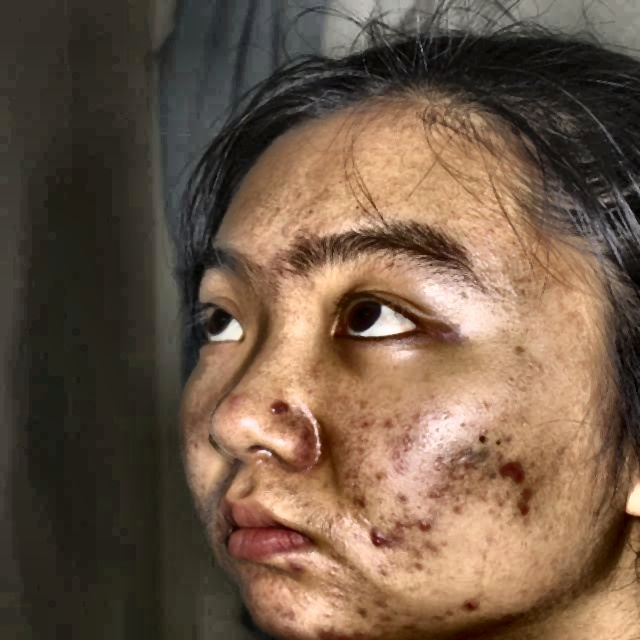pustule: (508, 482, 552, 522), (360, 525, 396, 557), (450, 587, 482, 617), (317, 614, 349, 640), (287, 556, 320, 577), (229, 388, 252, 414), (503, 456, 524, 481), (410, 518, 439, 536)
